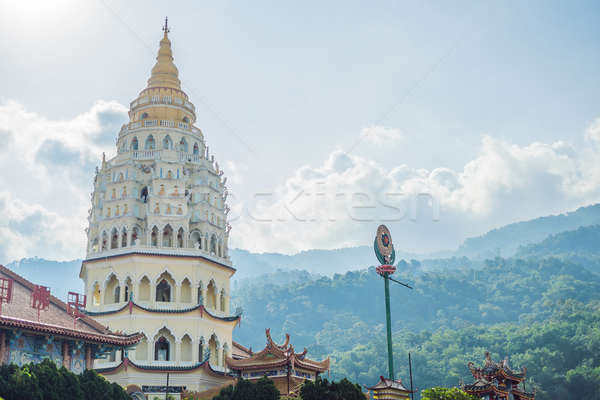Buddhist Temple: (78, 15, 260, 378)
